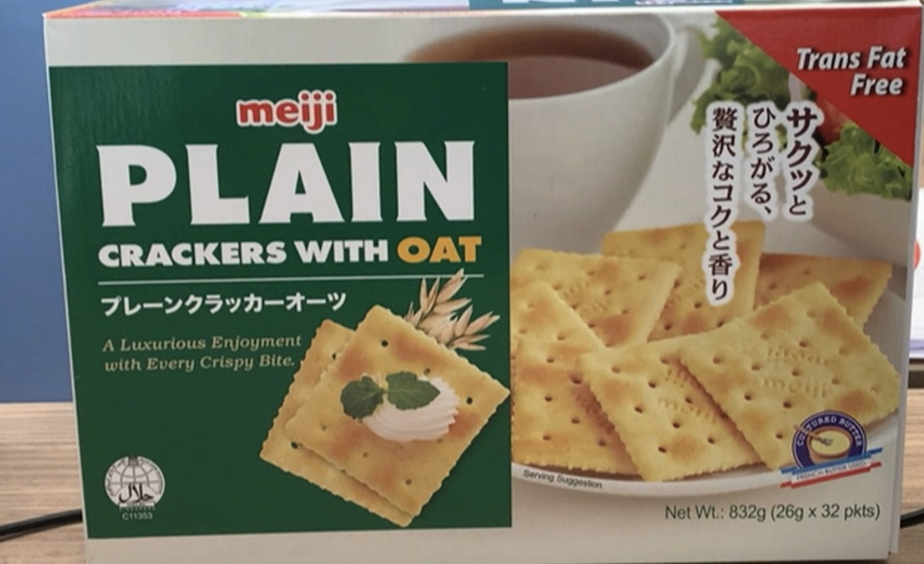crackers_800g-899g: (91, 26, 896, 546)
